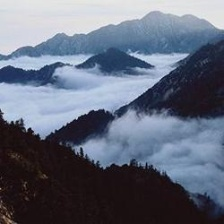neutral: (2, 3, 223, 211)
